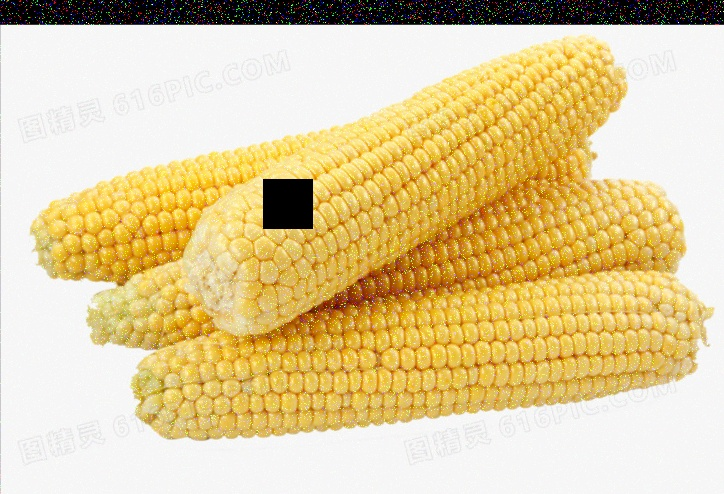corn: (207, 39, 617, 320), (25, 80, 600, 280), (89, 174, 687, 347), (152, 267, 707, 441)
